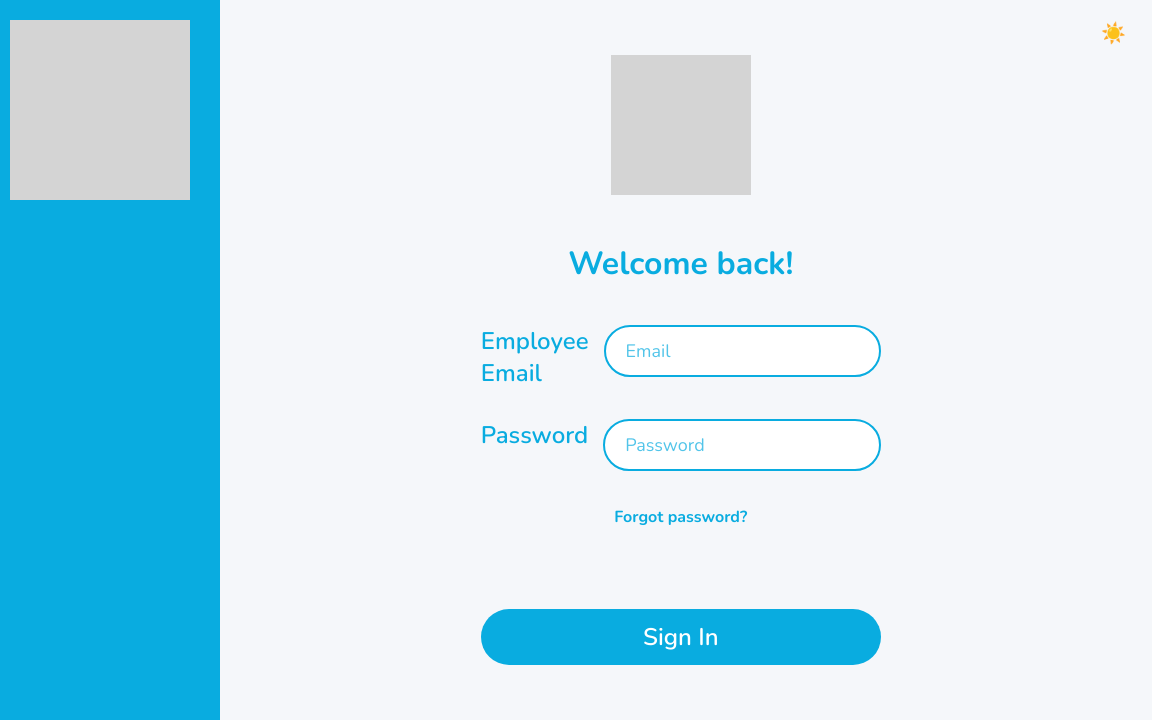
Test: Login Component › displays error on login failure
The width and height of the screenshot is (1152, 720).
Type "test@example.com" into the field with placeholder "Email" at (742, 351), box left=604, top=325, right=881, bottom=377
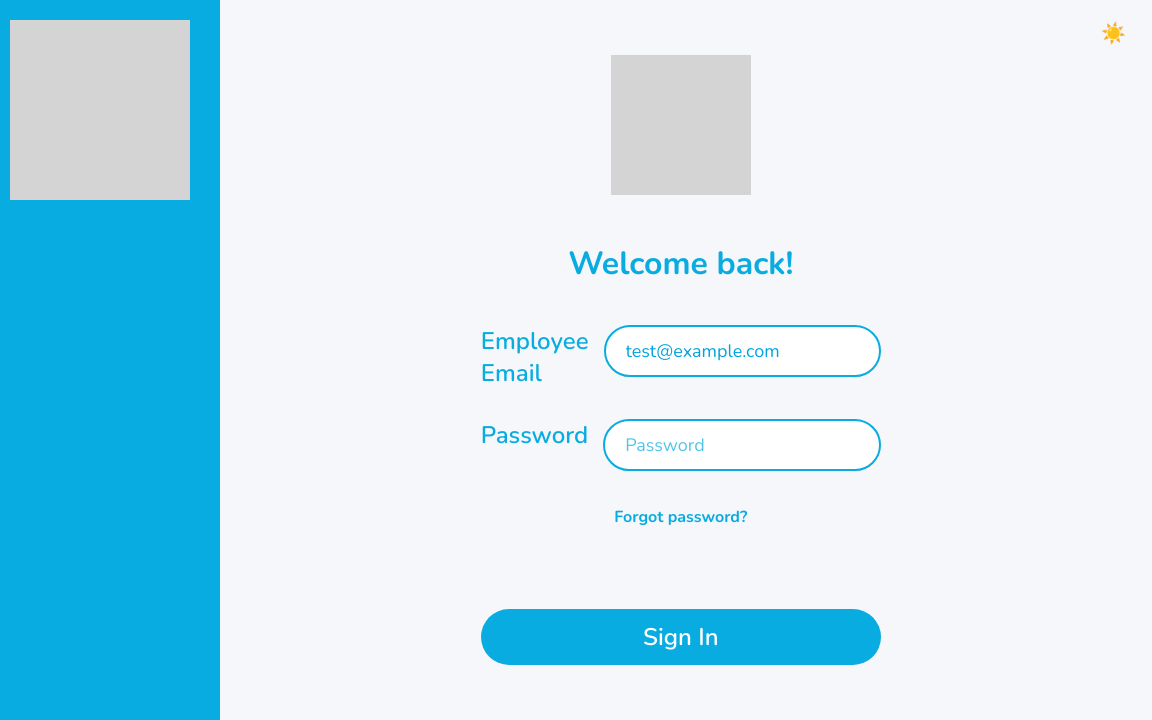
Type "wrongpassword" into the password field with placeholder "Password" at (742, 445), box left=603, top=419, right=881, bottom=471
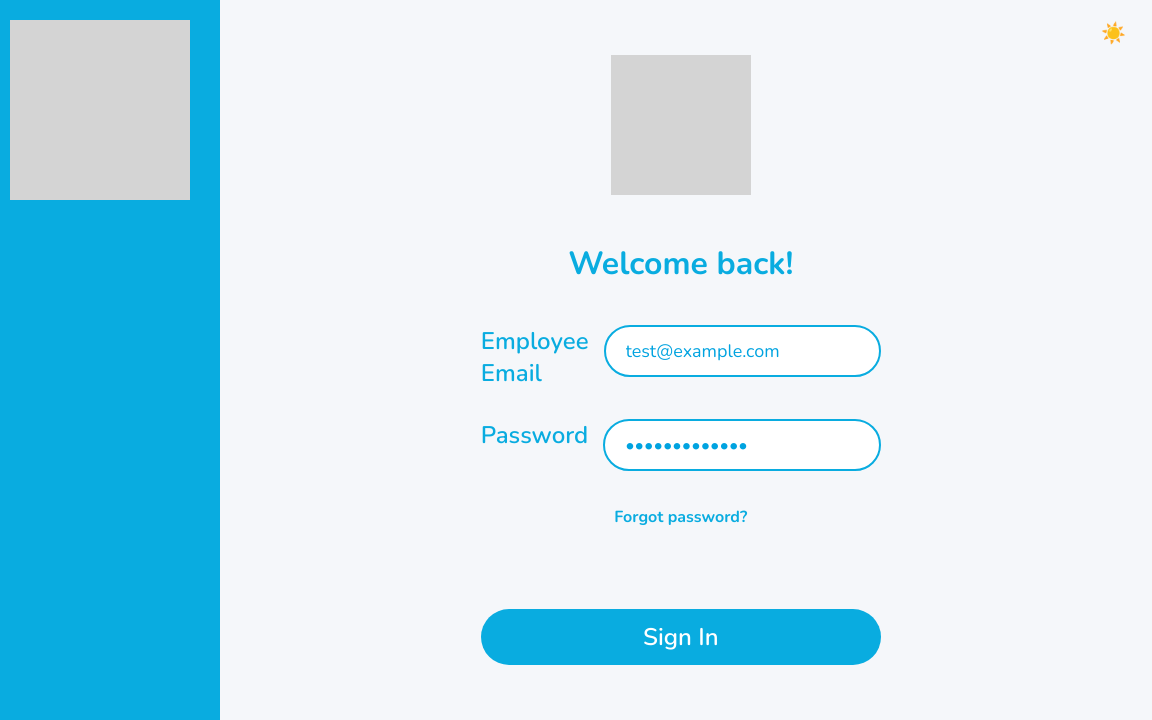
Click the button "Sign In" at (681, 637), box left=481, top=609, right=881, bottom=665
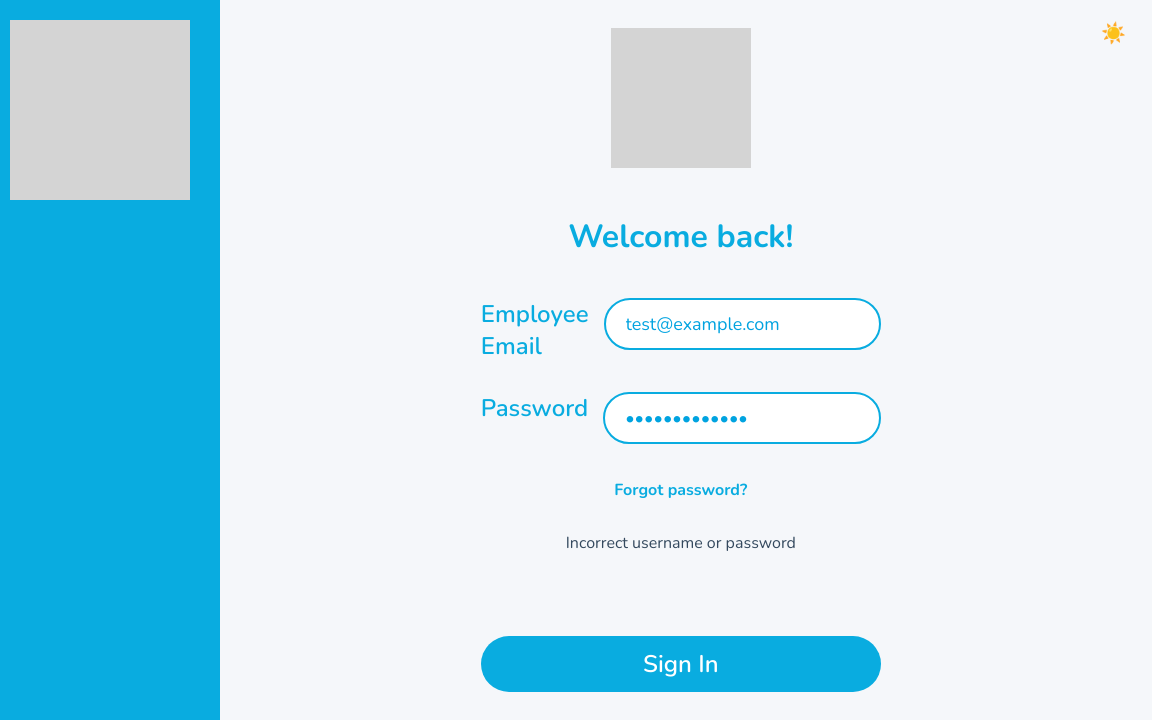
Check: the text "Incorrect username or password" is shown, box left=566, top=532, right=796, bottom=554
